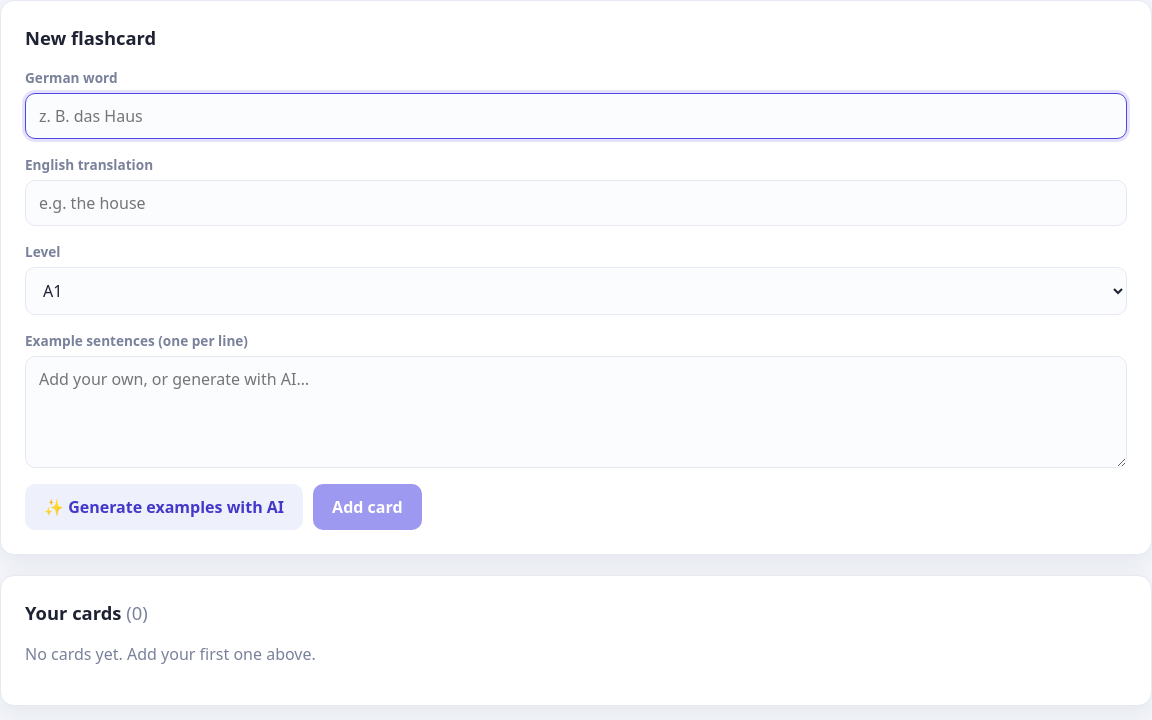
Test case: AddCard › fills the examples field from the AI generator
This screenshot has width=1152, height=720.
Type "die Katze" into the field with placeholder "z. B. das Haus" at (576, 116), box x1=25 y1=93 x2=1127 y2=139
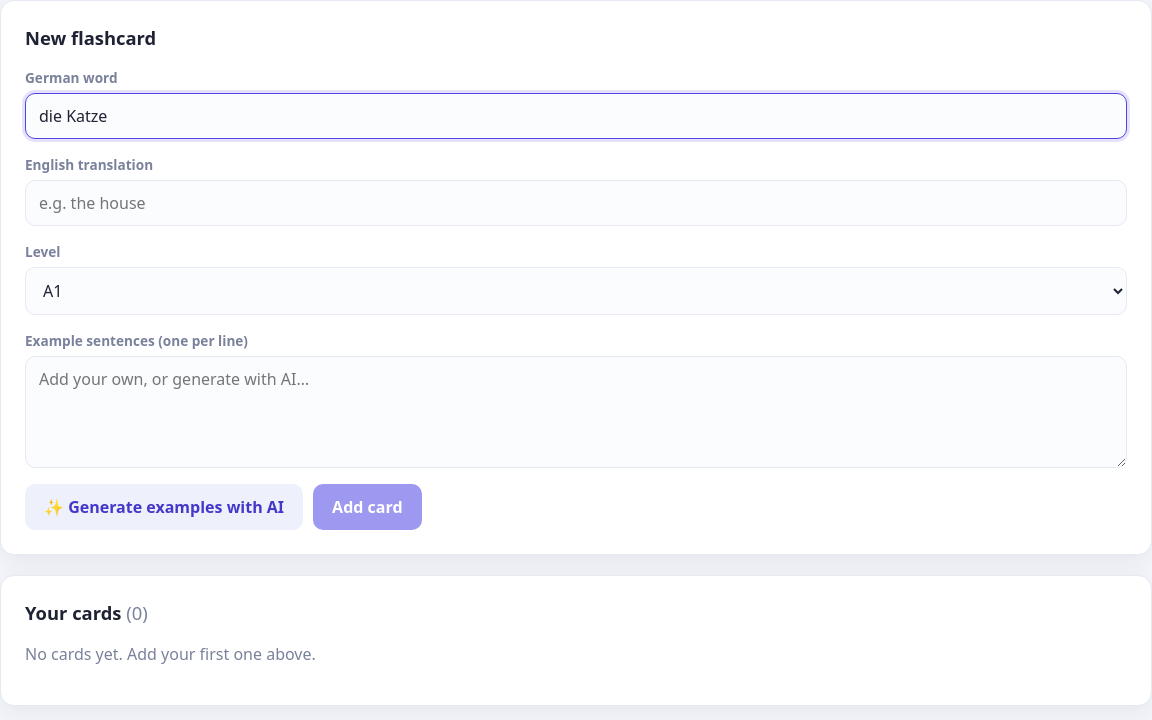
Type "the cat" into the field with placeholder "e.g. the house" at (576, 203), box x1=25 y1=180 x2=1127 y2=226
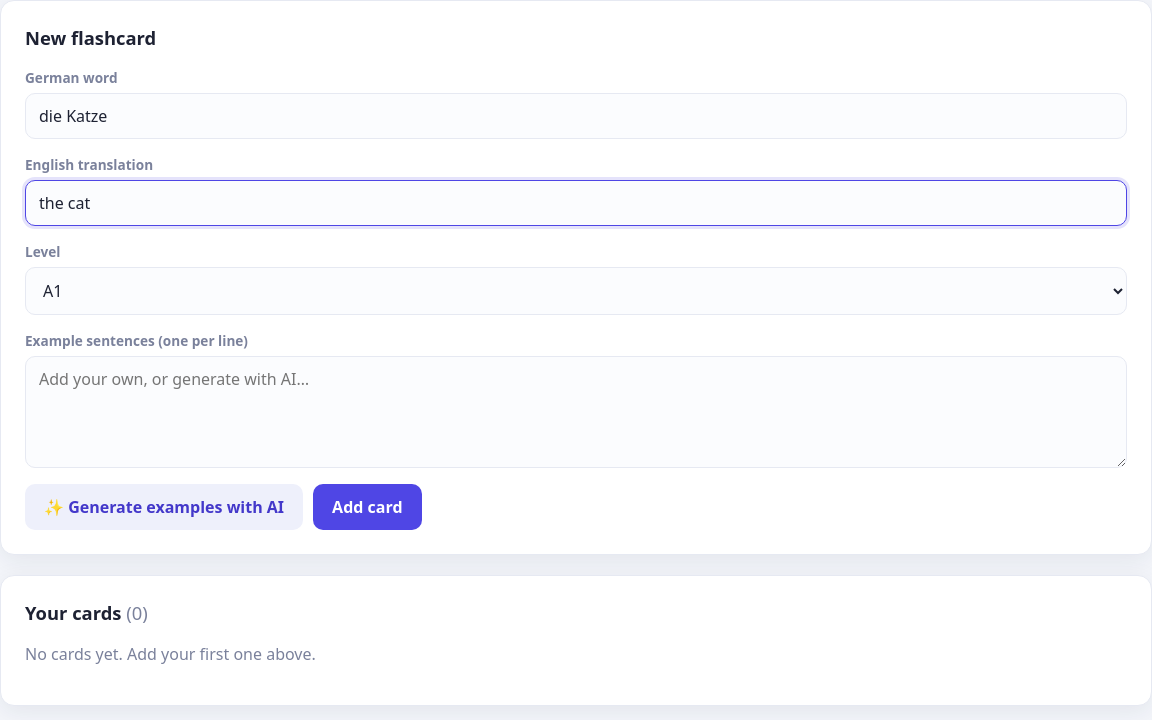
Click the button "✨ Generate examples with AI" at (164, 507), box x1=25 y1=484 x2=303 y2=530
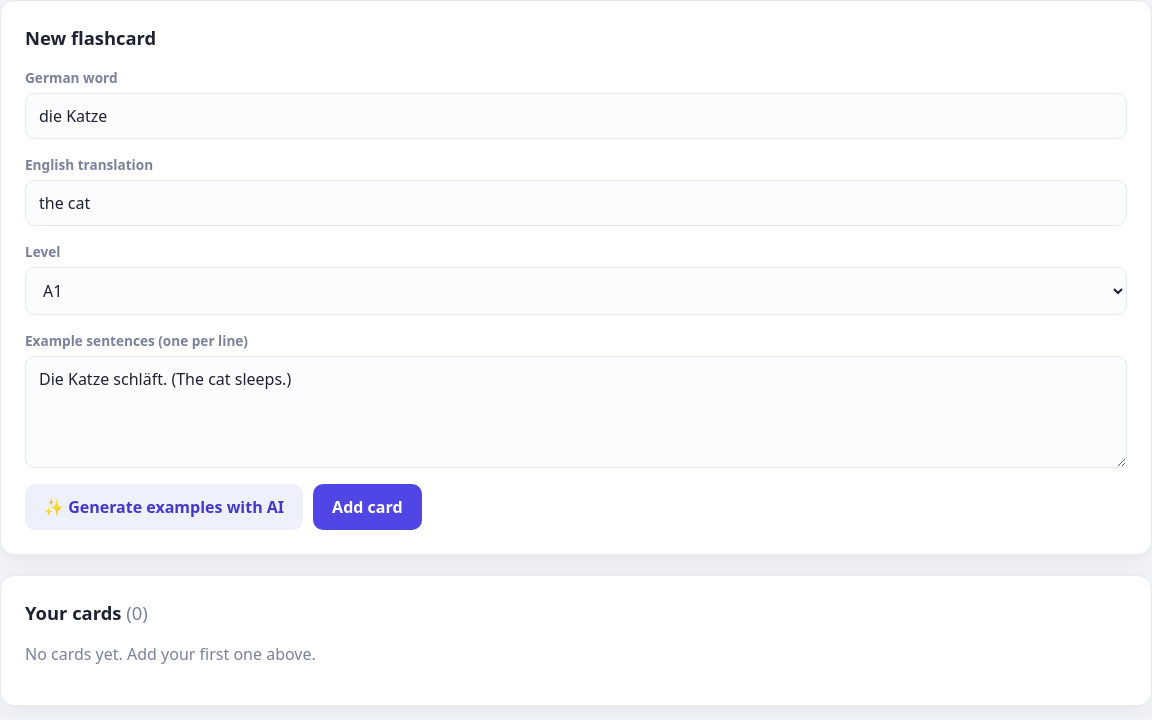
Check: the text box showing "Die Katze schläft" is shown, box x1=25 y1=356 x2=1127 y2=468
